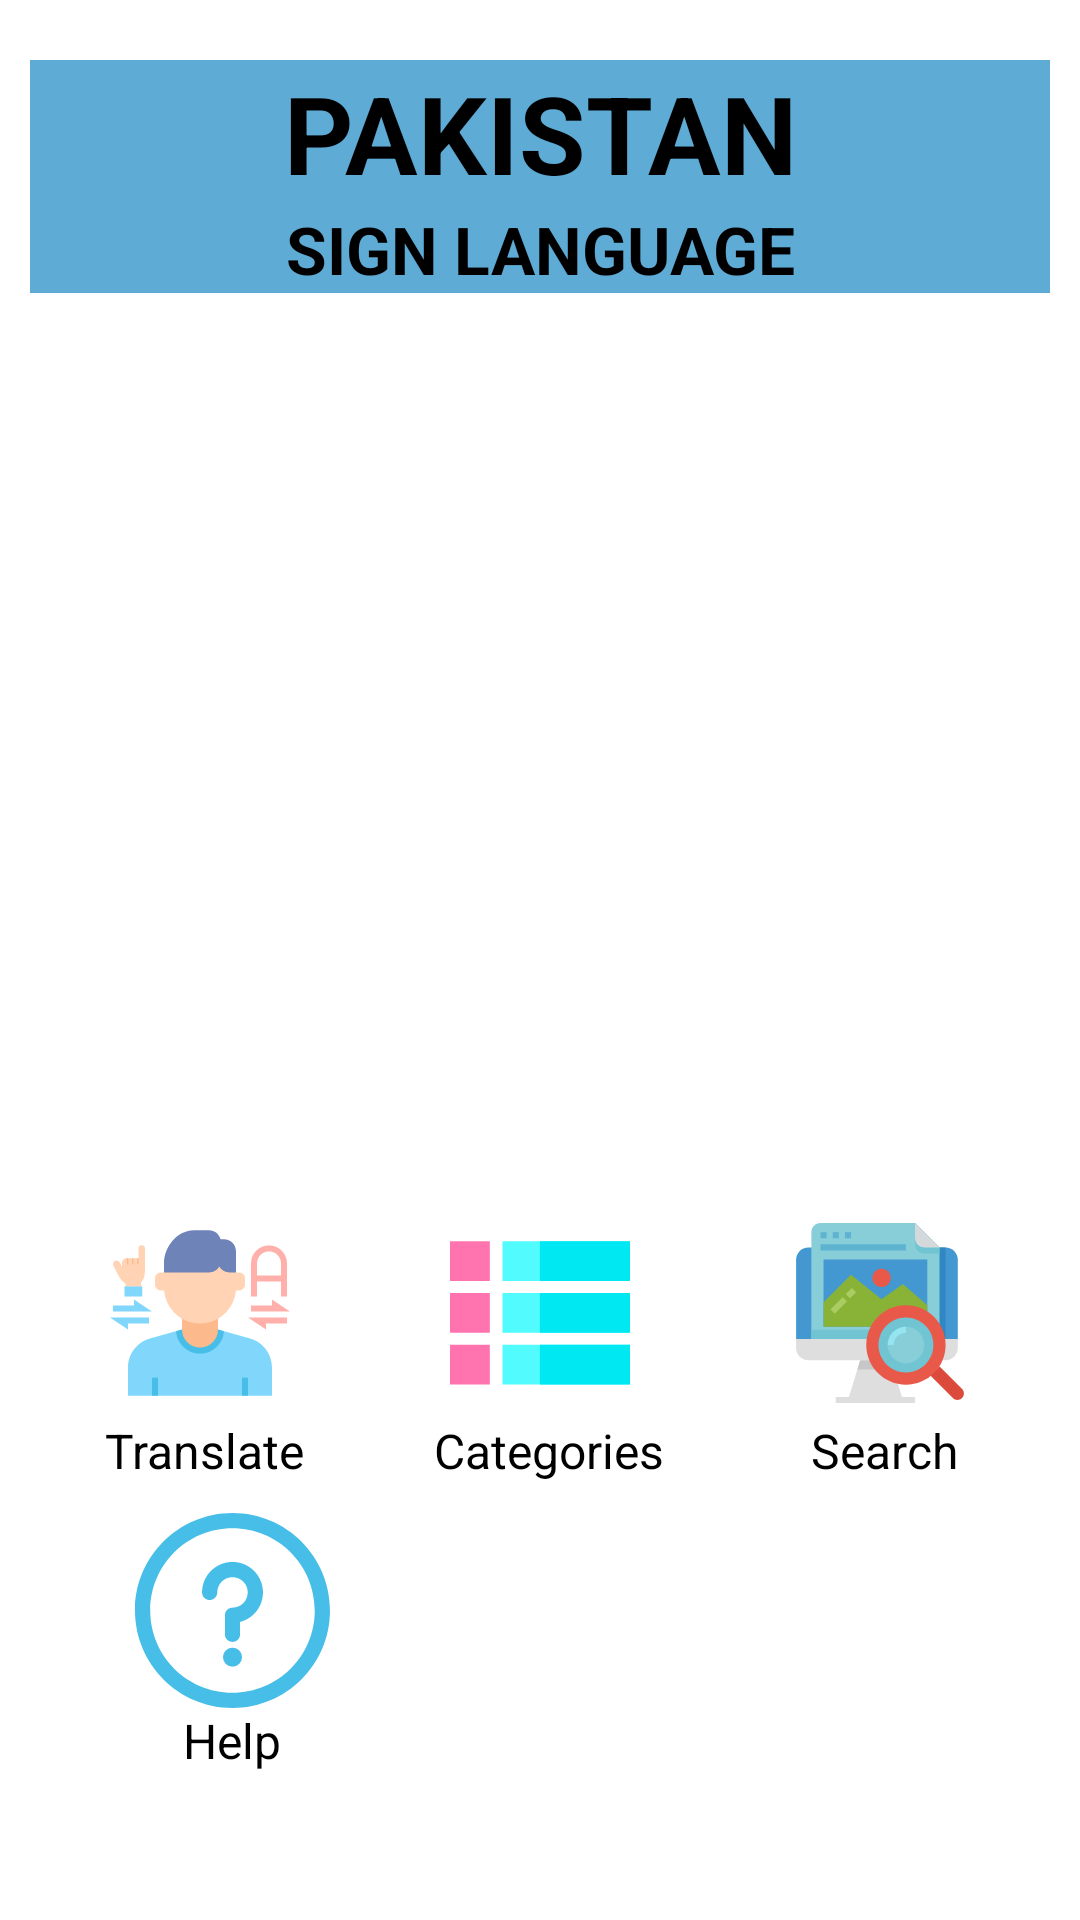

Screen size 1080x1920. Icon name, then its box in pixels as (x1, y1, x2, y2):
list: (450, 1241, 630, 1385)
question mark: (135, 1513, 330, 1708)
